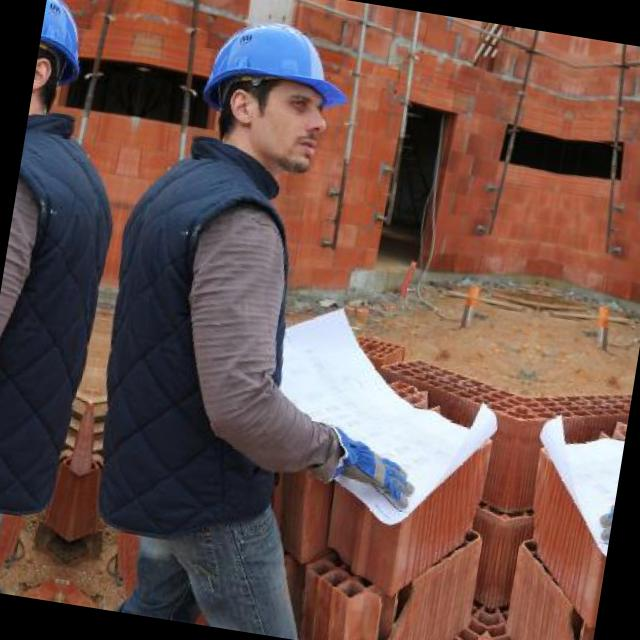helmet: (177, 5, 358, 191), (24, 0, 108, 153)
